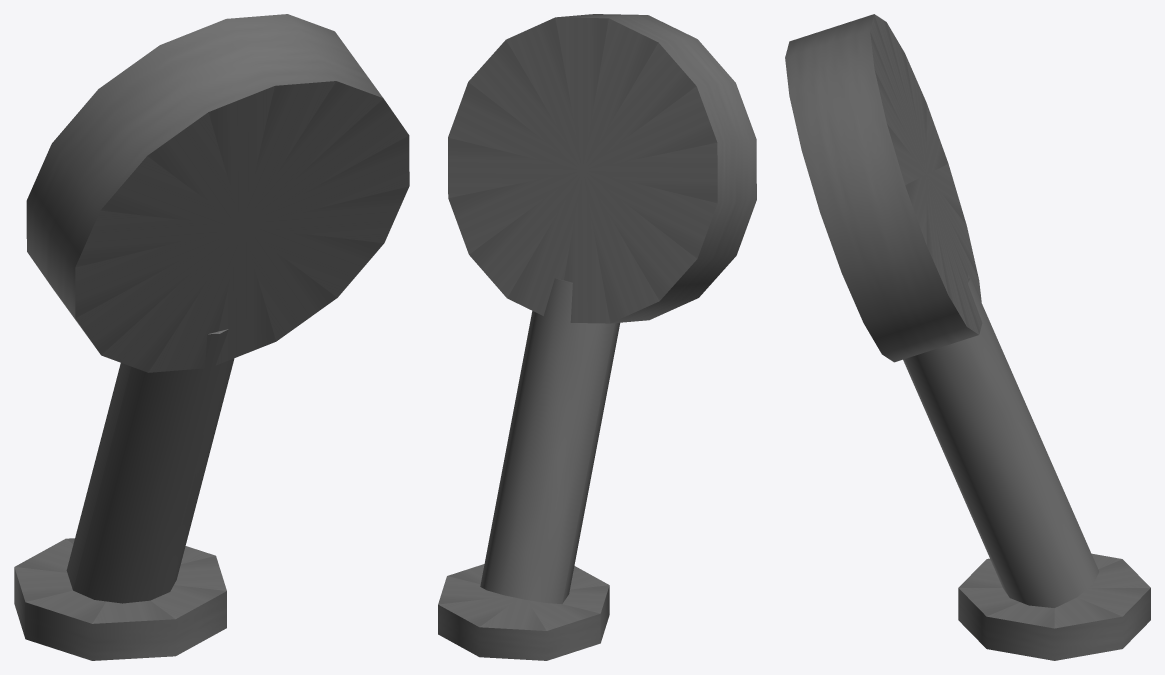
Rendered from mastarmcurve_4x1_c1_down.obj.
3 renders of one model, left to right at view 1: azimuth 30°, elevation 25°; view 2: azimuth 150°, elevation 25°; view 3: azimuth 270°, elevation 25°, orthographic. The views are drawn at different scales.
Parts seen in each view (by area): view 1: mastarm_4x1_c1_down; view 2: mastarm_4x1_c1_down; view 3: mastarm_4x1_c1_down.
Boxes of the visible parts, x1,y1,x2,y2 form: mastarm_4x1_c1_down: (14, 14, 409, 660); mastarm_4x1_c1_down: (438, 14, 756, 660); mastarm_4x1_c1_down: (785, 14, 1150, 660).
Bounding box in the file's own units: 0.7017 × 1.35 × 0.7601.
